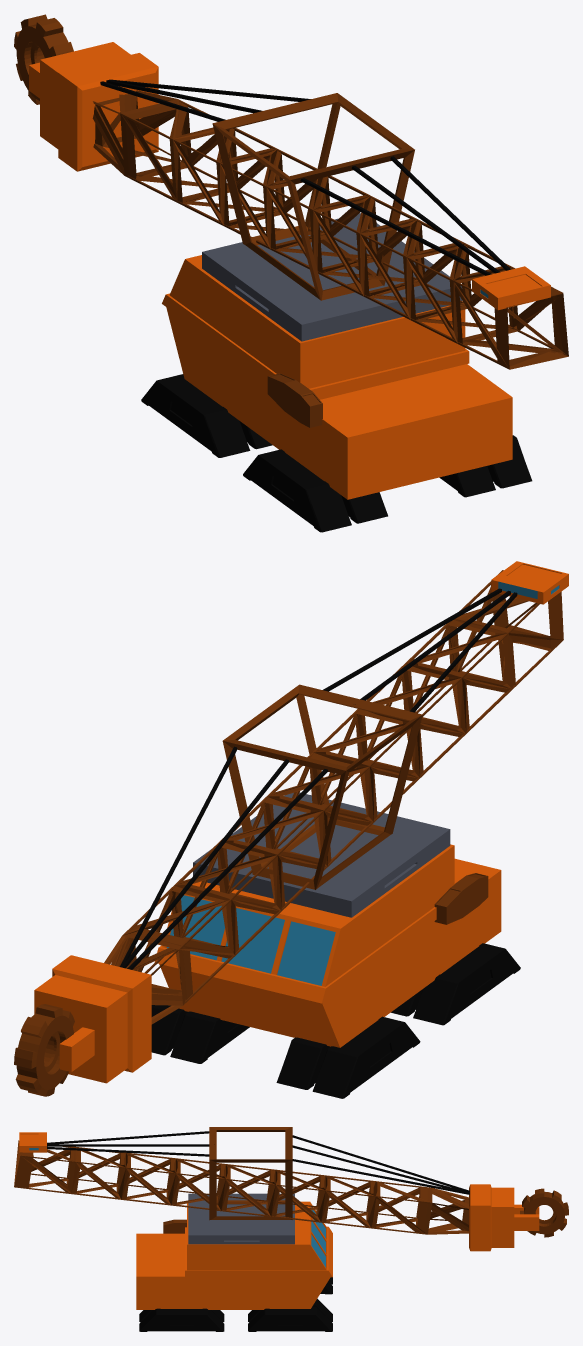
Rendered from Crane.glb.
3 renders of one model, top to bottom at view 1: azimuth 30°, elevation 25°; view 2: azimuth 150°, elevation 25°; view 3: azimuth 270°, elevation 25°, orthographic. The views are drawn at different scales.
Visible parts, largest first — view 1: Cube, Cylinder; view 2: Cube, Cylinder; view 3: Cube, Cylinder.
Part boxes in pixels (left/top/right/bottom): Cube: left=29, top=42, right=568, bottom=532; Cylinder: left=14, top=14, right=73, bottom=104; Cube: left=34, top=561, right=568, bottom=1098; Cylinder: left=14, top=1004, right=74, bottom=1096; Cube: left=14, top=1127, right=539, bottom=1331; Cylinder: left=520, top=1188, right=568, bottom=1237.
Bounding box in the file's own units: 1.92 × 2.61 × 8.15.
